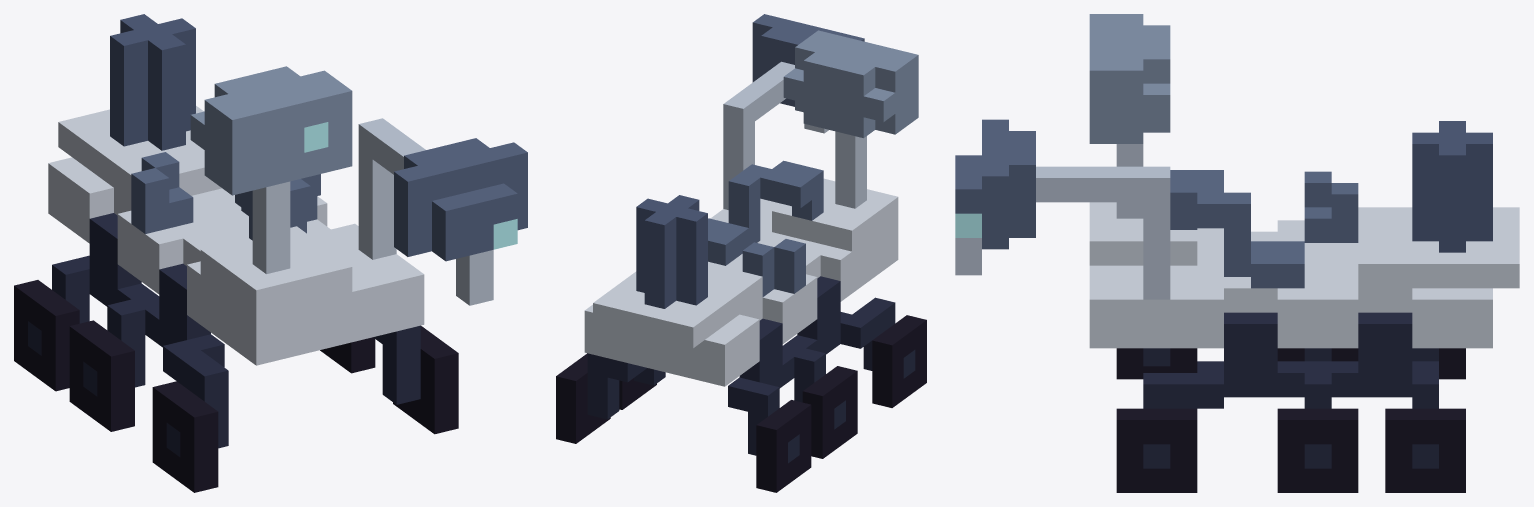
The model's file is asset.glb.
3 views of the same model, side by side, from view 1: azimuth 30°, elevation 25°; view 2: azimuth 150°, elevation 25°; view 3: azimuth 270°, elevation 25° (orthographic). The views are drawn at different scales.
Parts seen in each view (by area): view 1: ObjObject.004; view 2: ObjObject.004; view 3: ObjObject.004.
Boxes of the visible parts, <box> form: ObjObject.004: <box>14,14,527,492</box>; ObjObject.004: <box>556,14,926,492</box>; ObjObject.004: <box>955,14,1519,492</box>.
Size of the model in its own units: 10.47 by 14.28 by 19.99.
1 material, 1 textured.
